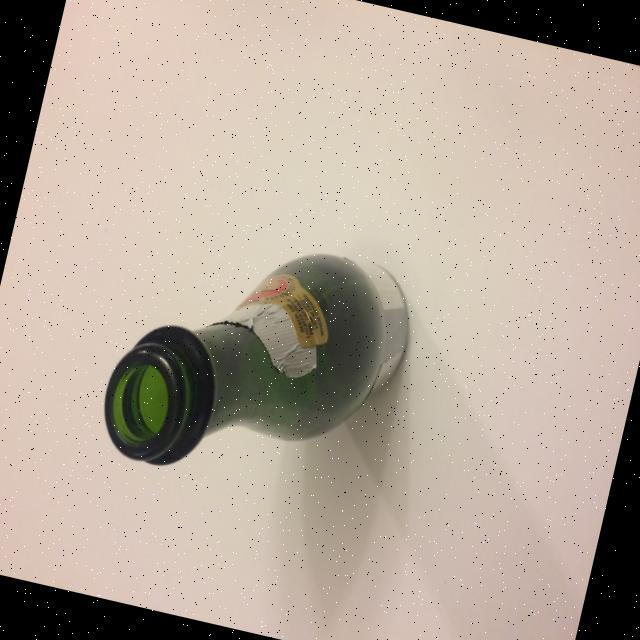glass: (90, 208, 423, 514)
